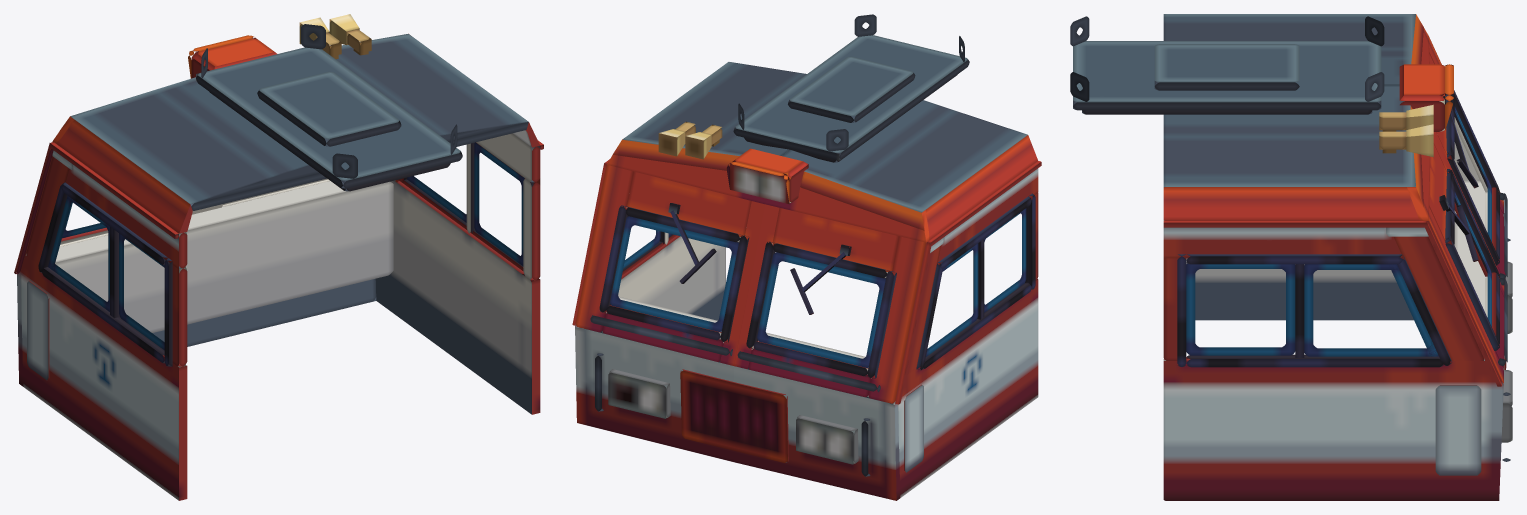
File: jy290_head_1.obj
The picture shows the model from 3 angles, left to right: view 1: azimuth 30°, elevation 25°; view 2: azimuth 150°, elevation 25°; view 3: azimuth 270°, elevation 25°; orthographic projection. The views are drawn at different scales.
Parts seen in each view (by area): view 1: cube_selection_selection_selection_selection_selection_selection; view 2: cube_selection_selection_selection_selection_selection_selection; view 3: cube_selection_selection_selection_selection_selection_selection.
Boxes of the visible parts, box(x1,y1,x2,y2) form: cube_selection_selection_selection_selection_selection_selection: box(14, 14, 543, 500); cube_selection_selection_selection_selection_selection_selection: box(572, 14, 1041, 500); cube_selection_selection_selection_selection_selection_selection: box(1070, 14, 1512, 500).
Size of the model in its own units: 3.07 by 2.75 by 3.05.
